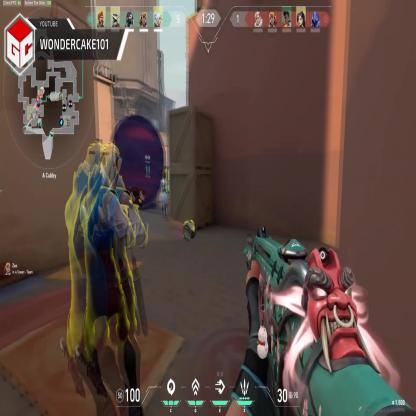enemy: (80, 144, 145, 415), (157, 168, 171, 222)
enemy_head: (96, 147, 120, 186), (162, 169, 167, 181)
